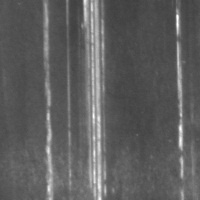scratches: (72, 1, 112, 198), (38, 1, 60, 197), (170, 10, 186, 184)
